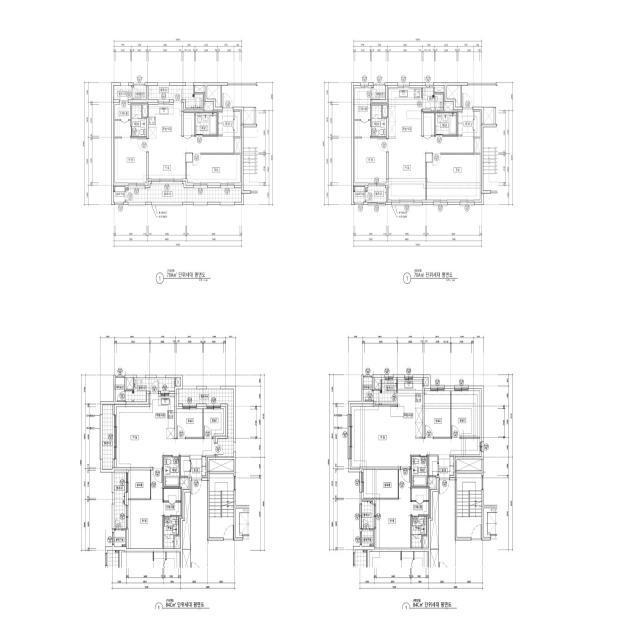space_balconi: (178, 389, 234, 457), (126, 184, 242, 202), (148, 86, 203, 108), (126, 378, 175, 402), (102, 405, 113, 470), (114, 472, 125, 529), (374, 380, 397, 405), (423, 88, 443, 111), (362, 501, 374, 529), (366, 186, 386, 202), (113, 86, 131, 100)
space_bedroom: (128, 470, 163, 548), (376, 470, 410, 548), (427, 154, 480, 200), (187, 155, 240, 183), (355, 138, 386, 183), (115, 138, 146, 183), (451, 391, 480, 437), (425, 391, 450, 437), (177, 409, 202, 437), (204, 409, 224, 437)
space_dressroom: (355, 88, 370, 137), (115, 102, 130, 137), (411, 488, 429, 515), (164, 489, 181, 515)
space_front: (458, 109, 480, 137), (218, 109, 240, 137), (439, 455, 454, 478), (190, 455, 206, 476)
space_kitchen: (388, 88, 422, 137), (398, 380, 423, 437), (148, 102, 182, 137), (150, 394, 175, 439)
space_living_room: (352, 406, 480, 467), (116, 407, 214, 467), (388, 137, 473, 200), (148, 137, 233, 179)
space_multipurpose_space: (364, 470, 398, 498), (128, 470, 150, 498)
space_other: (430, 492, 439, 549), (182, 492, 191, 549), (457, 459, 482, 471), (209, 460, 234, 471), (207, 86, 220, 107), (447, 86, 460, 107), (184, 113, 194, 135), (424, 113, 434, 135), (363, 378, 372, 401), (116, 378, 124, 402), (133, 86, 146, 100), (243, 108, 254, 124), (483, 108, 494, 124), (372, 86, 385, 99), (429, 456, 437, 476), (181, 457, 189, 476), (474, 138, 480, 153), (428, 477, 436, 488), (180, 478, 188, 488), (126, 378, 133, 389), (235, 138, 240, 153), (204, 103, 213, 111), (444, 103, 453, 111), (195, 86, 205, 93), (375, 380, 381, 389), (434, 88, 444, 93), (383, 105, 387, 117), (143, 105, 147, 117), (175, 536, 179, 548), (423, 536, 427, 548), (176, 378, 181, 386), (424, 379, 427, 386)
space_outdoor_room: (114, 530, 126, 547), (353, 186, 365, 202), (113, 187, 125, 202), (362, 530, 373, 546)
space_staircase: (209, 474, 234, 538), (457, 474, 482, 537)
space_toilet: (195, 113, 217, 135), (435, 113, 457, 135), (371, 105, 386, 137), (411, 516, 426, 548), (164, 517, 179, 548), (412, 456, 427, 487), (164, 457, 179, 487), (132, 105, 146, 137)
